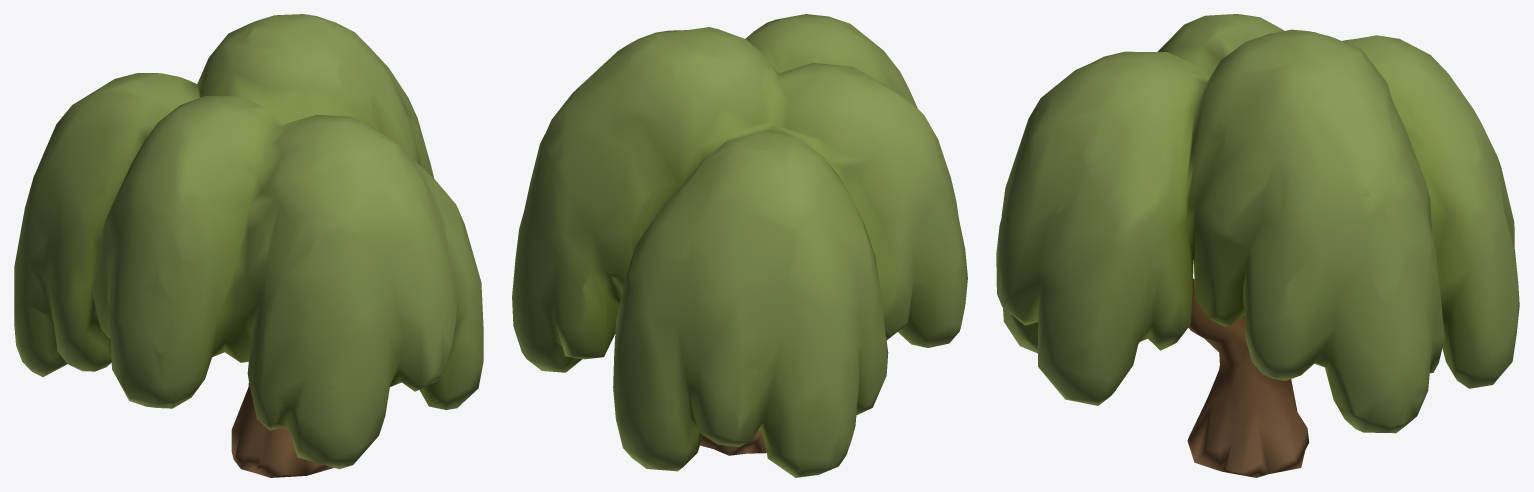
File: textures.glb
3 renders of one model, left to right at view 1: azimuth 30°, elevation 25°; view 2: azimuth 150°, elevation 25°; view 3: azimuth 270°, elevation 25°, orthographic. The views are drawn at different scales.
Visible parts, largest first — view 1: tripo_node_d6c9af12-1d21-49a0-8422-5c031c41e4ee; view 2: tripo_node_d6c9af12-1d21-49a0-8422-5c031c41e4ee; view 3: tripo_node_d6c9af12-1d21-49a0-8422-5c031c41e4ee.
Boxes of the visible parts, bbox=[...] form: tripo_node_d6c9af12-1d21-49a0-8422-5c031c41e4ee: bbox=[14, 14, 483, 477]; tripo_node_d6c9af12-1d21-49a0-8422-5c031c41e4ee: bbox=[512, 14, 967, 477]; tripo_node_d6c9af12-1d21-49a0-8422-5c031c41e4ee: bbox=[996, 14, 1519, 477].
Size of the model in its own units: 0.8344 by 0.8919 by 1.
Materials: 1 (1 with a texture image).
